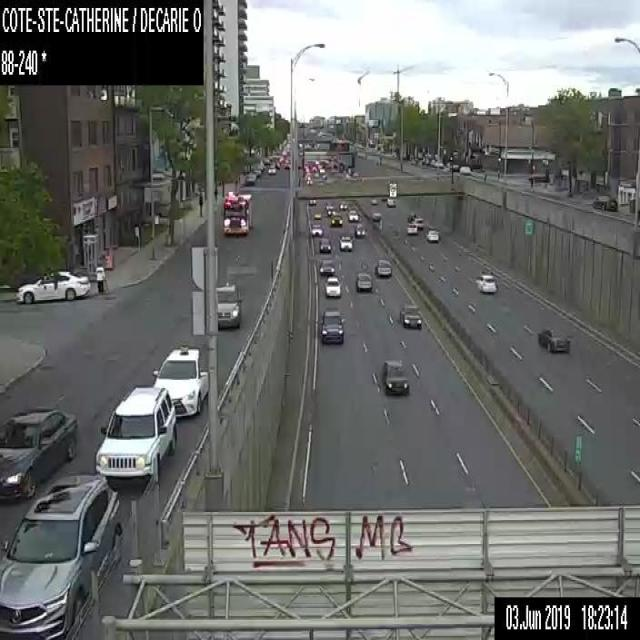pedestrian: (94, 258, 105, 294)
vehicle: (0, 473, 123, 639), (94, 387, 176, 490), (0, 408, 76, 500), (152, 344, 209, 416), (14, 268, 90, 304), (222, 191, 253, 236), (215, 276, 240, 329), (536, 326, 571, 354), (381, 360, 408, 395), (319, 309, 345, 344), (399, 304, 421, 330), (475, 273, 497, 293), (591, 194, 617, 209), (324, 276, 341, 297), (355, 272, 372, 291), (375, 258, 391, 276), (319, 259, 334, 274), (338, 235, 352, 251), (318, 238, 331, 252), (426, 228, 438, 241), (330, 212, 342, 225), (311, 224, 323, 236), (412, 217, 424, 229), (354, 224, 365, 237), (406, 212, 417, 222), (348, 209, 357, 221), (406, 223, 416, 233), (268, 163, 276, 175), (371, 211, 381, 220), (386, 196, 395, 206), (244, 174, 253, 184), (307, 197, 316, 205), (327, 207, 335, 216), (257, 164, 264, 171), (339, 202, 347, 208), (313, 212, 321, 218), (370, 199, 377, 204)
